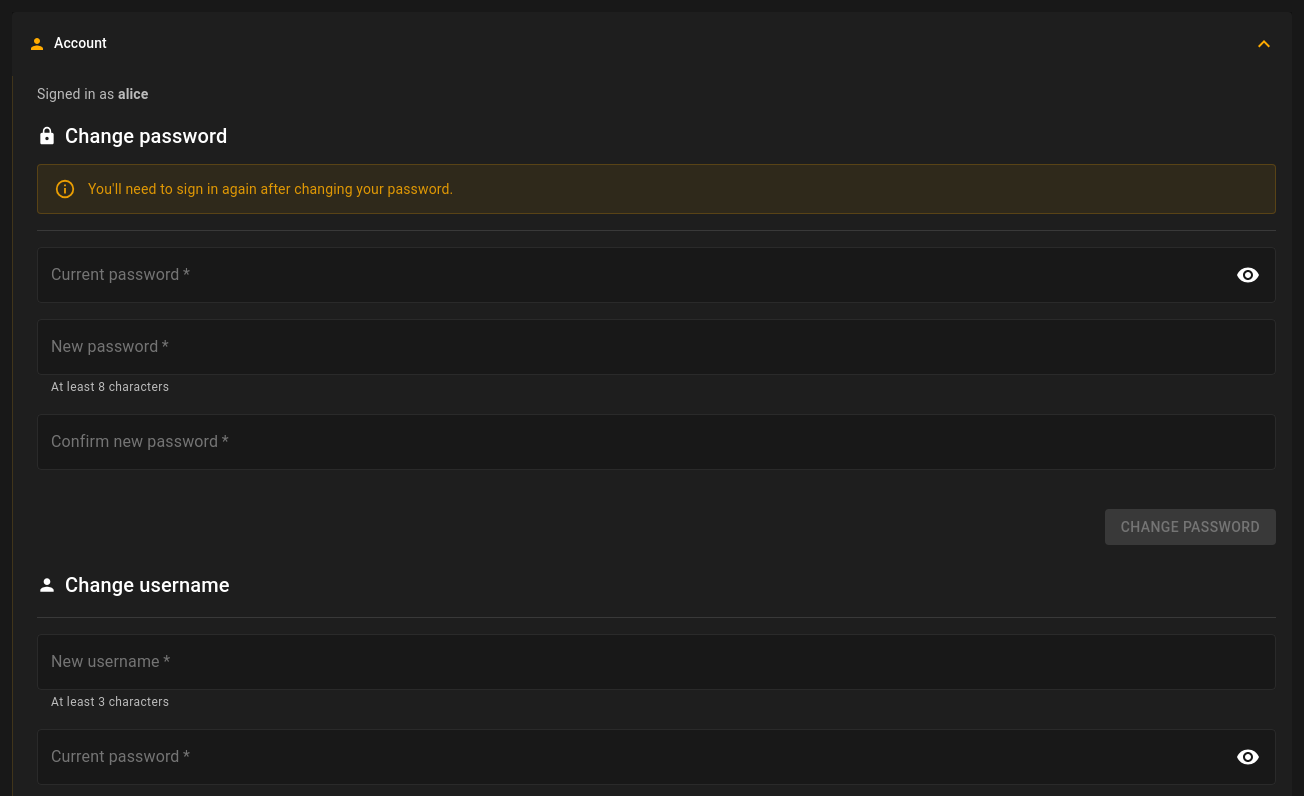
it: AccountAccordion › shows error alert when changePassword rejects with a non-Error object
Type "oldpass" into the 1st password field labelled "Current password *" at (630, 275), box [37,247,1223,303]
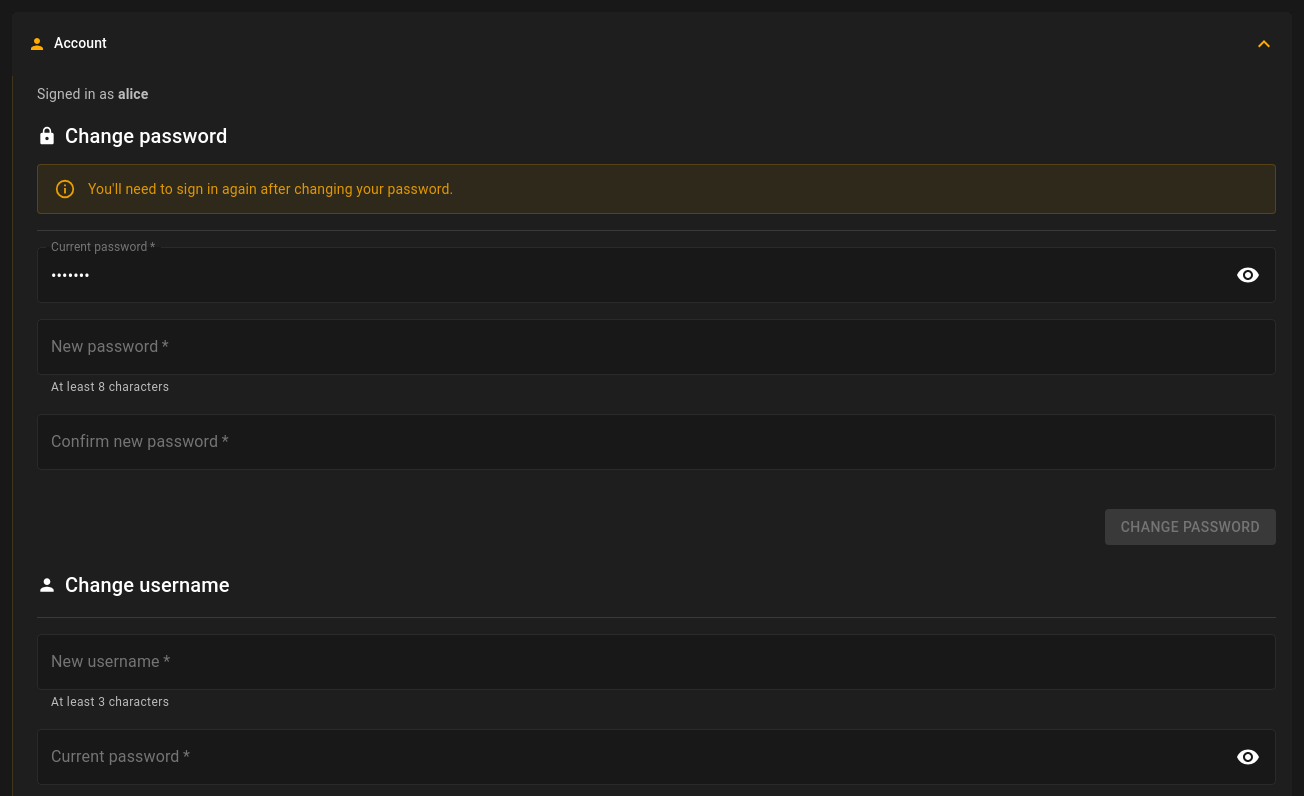
Type "newpassword123" into the password field labelled "New password *" at (656, 347), box [37,319,1276,375]
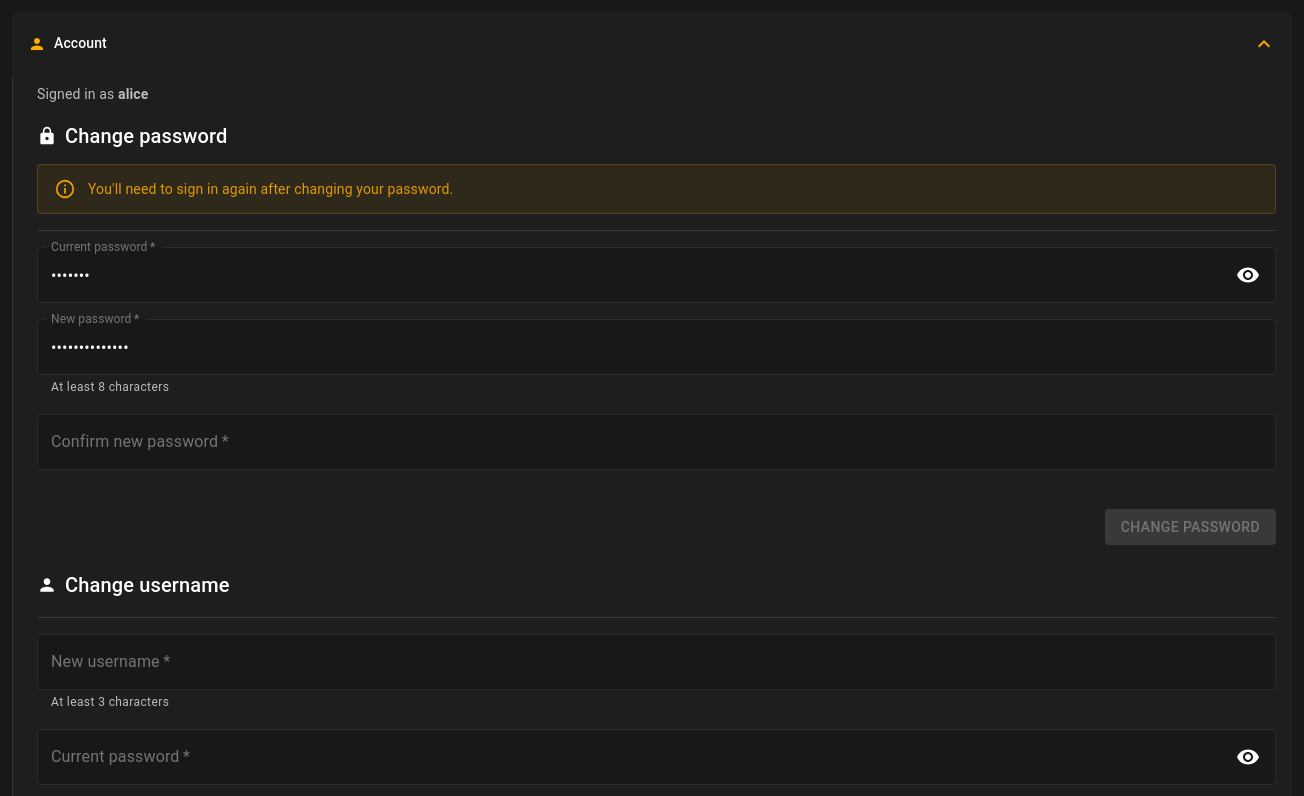
Type "newpassword123" into the password field labelled "Confirm new password *" at (656, 442), box [37,414,1276,470]
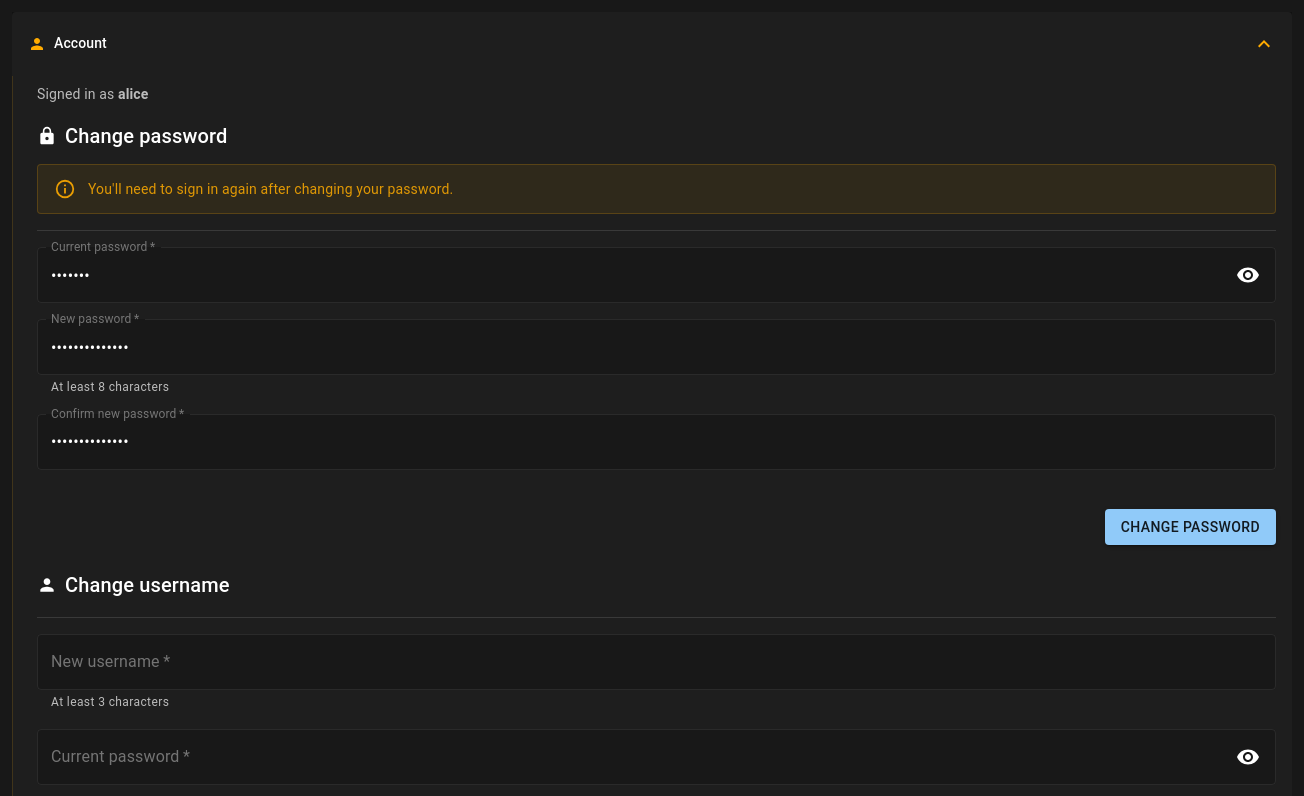
Click the button "Change password" at (1190, 527), box [1105,509,1276,545]
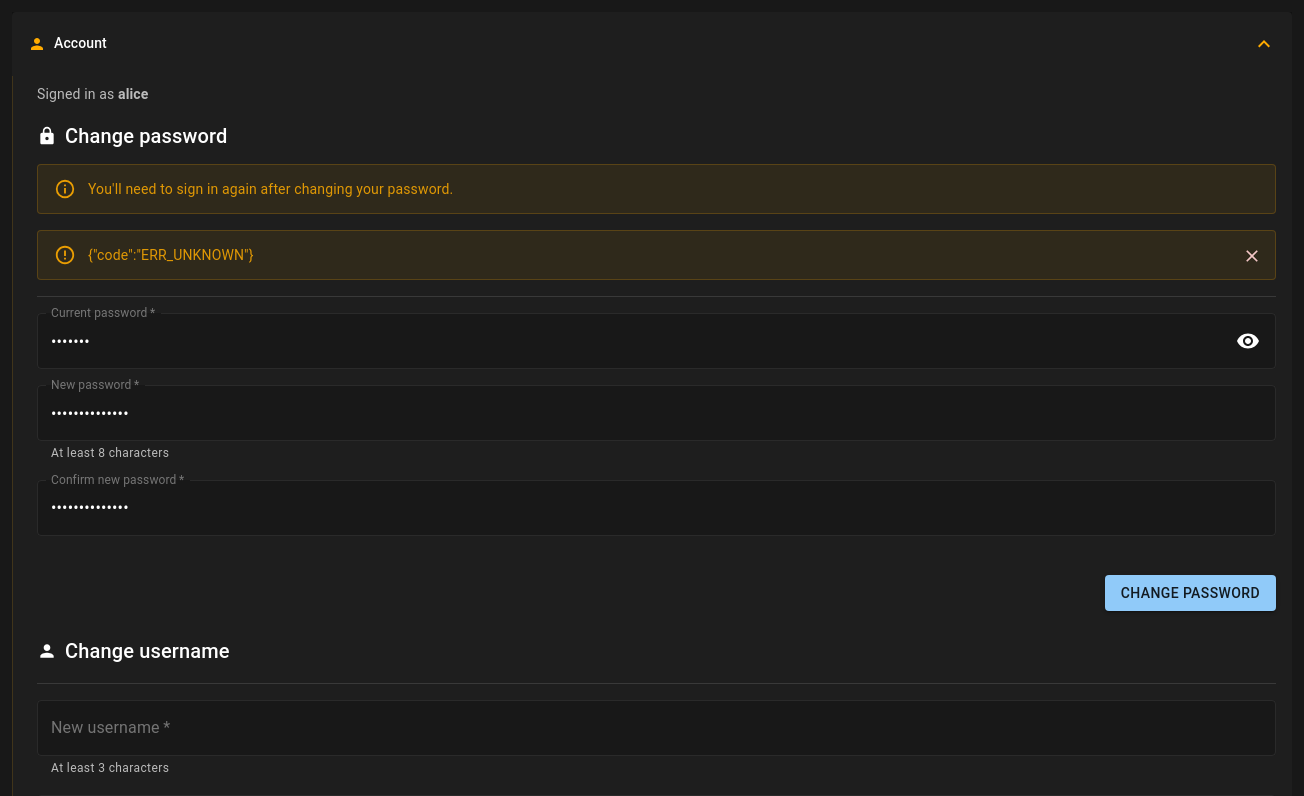
Expected: the text "{\"code\":\"ERR_UNKNOWN\"}" is shown, [88,247,254,263]
